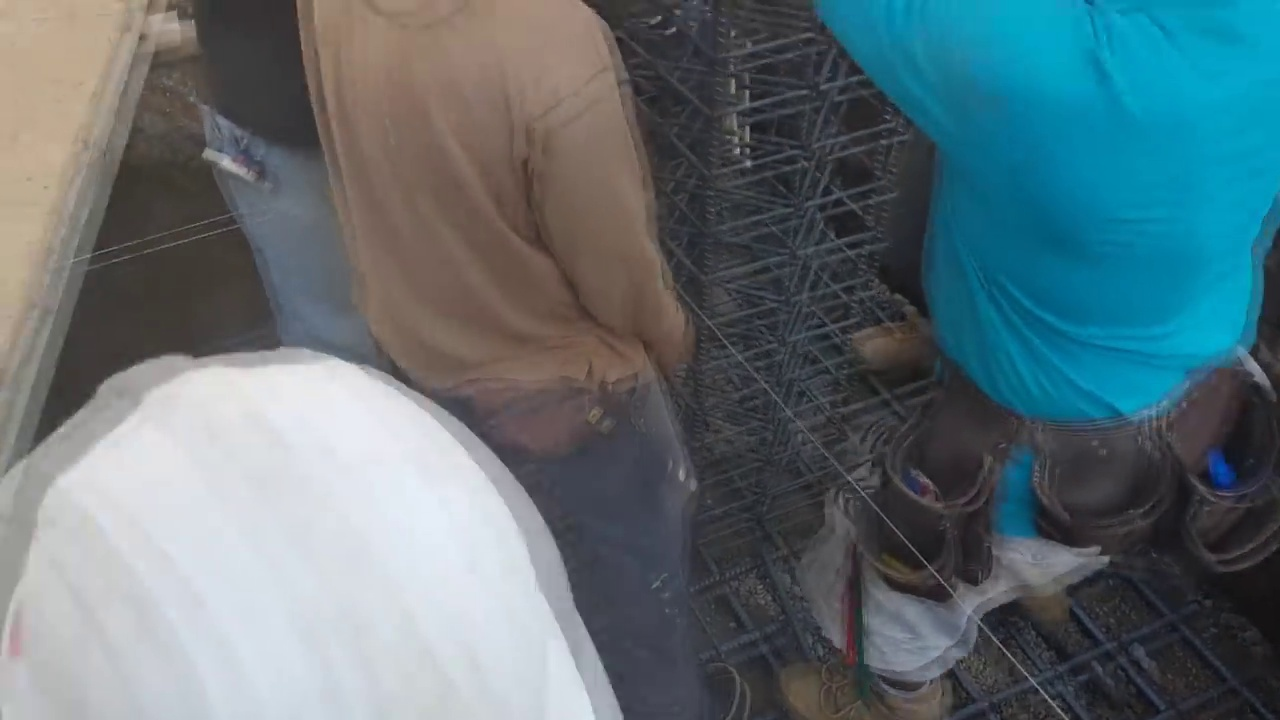helmet: (0, 340, 620, 716)
person: (772, 0, 1280, 719), (292, 3, 750, 716), (161, 3, 380, 377)
